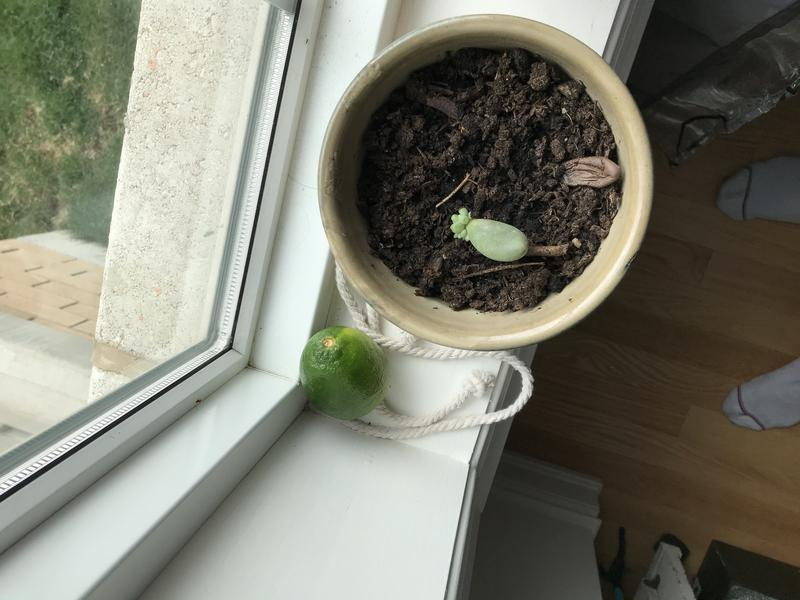lime: (297, 320, 396, 427)
